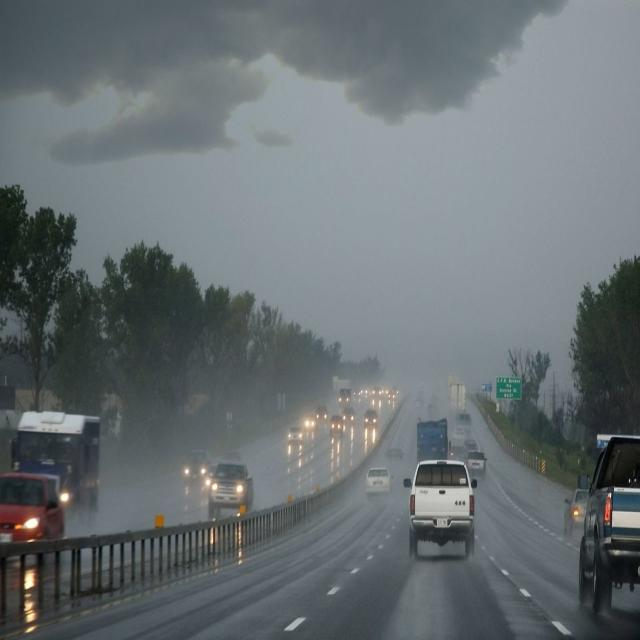bus: (10, 416, 104, 520), (416, 418, 448, 461), (449, 382, 467, 417)
car: (579, 441, 638, 617), (404, 461, 476, 558), (0, 471, 68, 544), (205, 458, 252, 520), (564, 485, 592, 537), (180, 449, 209, 484), (362, 468, 394, 494), (465, 451, 487, 478), (382, 446, 404, 464), (449, 445, 467, 466), (328, 415, 344, 436), (286, 425, 304, 442), (362, 410, 378, 429), (338, 388, 351, 406), (314, 407, 328, 422), (343, 408, 355, 425), (451, 426, 465, 440), (302, 416, 316, 428)
